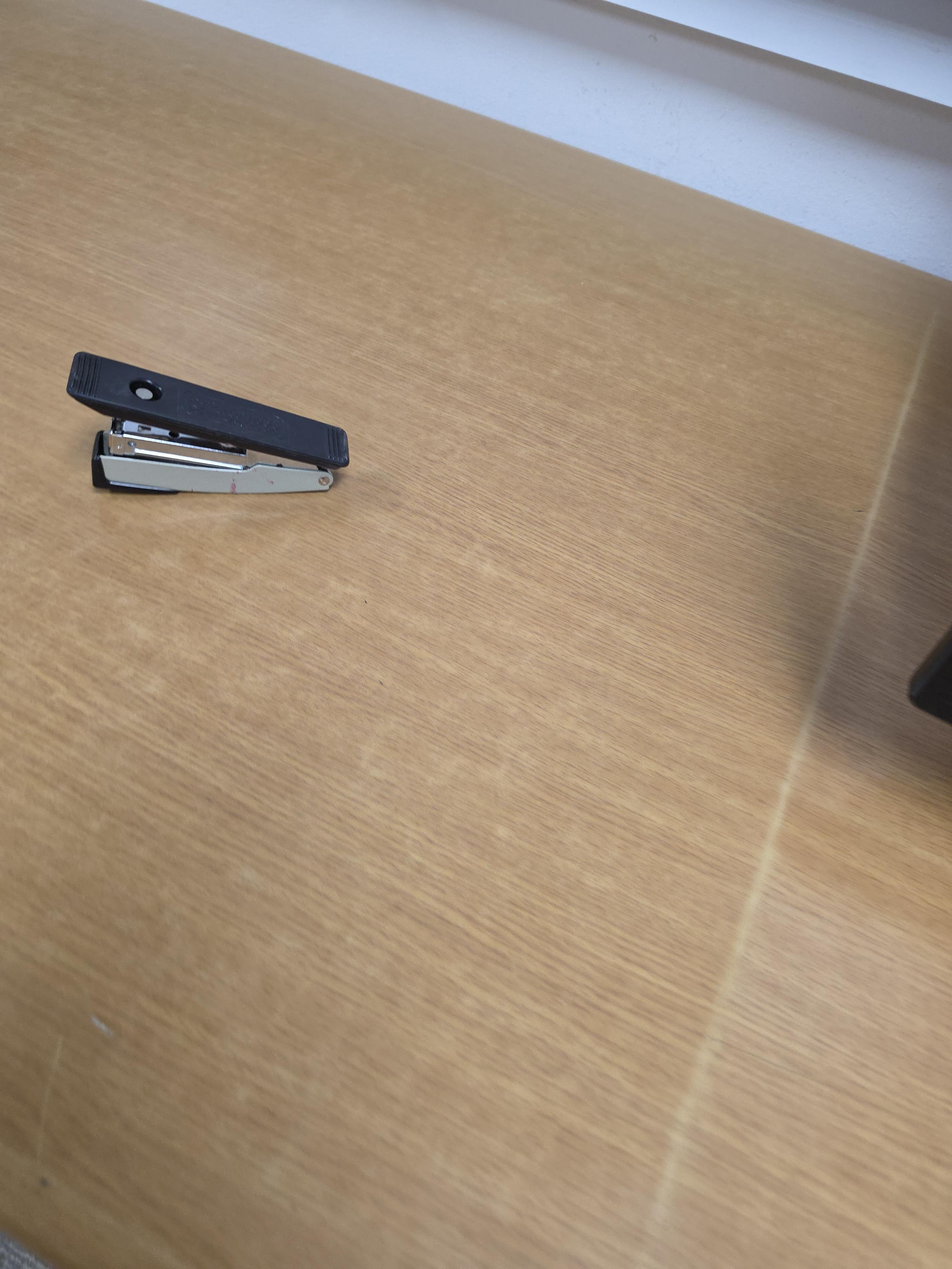stapler: (66, 351, 351, 496)
